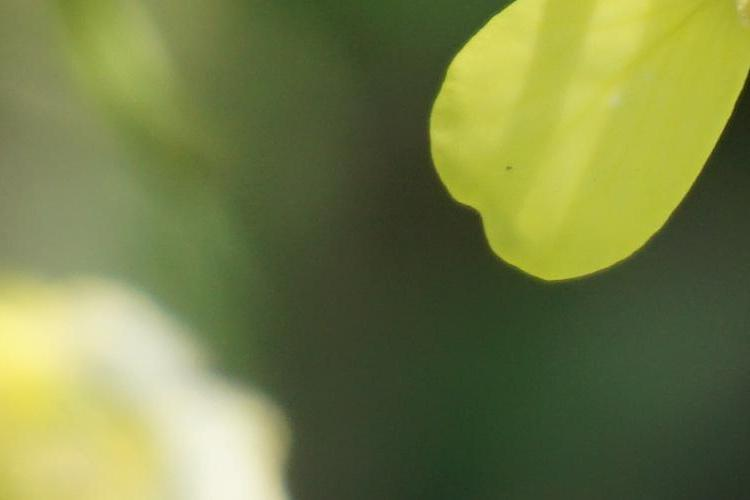yellow: (2, 269, 284, 498)
